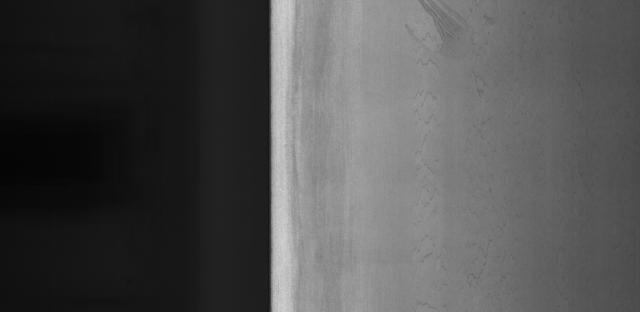silk_spot: (415, 90, 515, 299)
water_spot: (397, 0, 502, 66)
